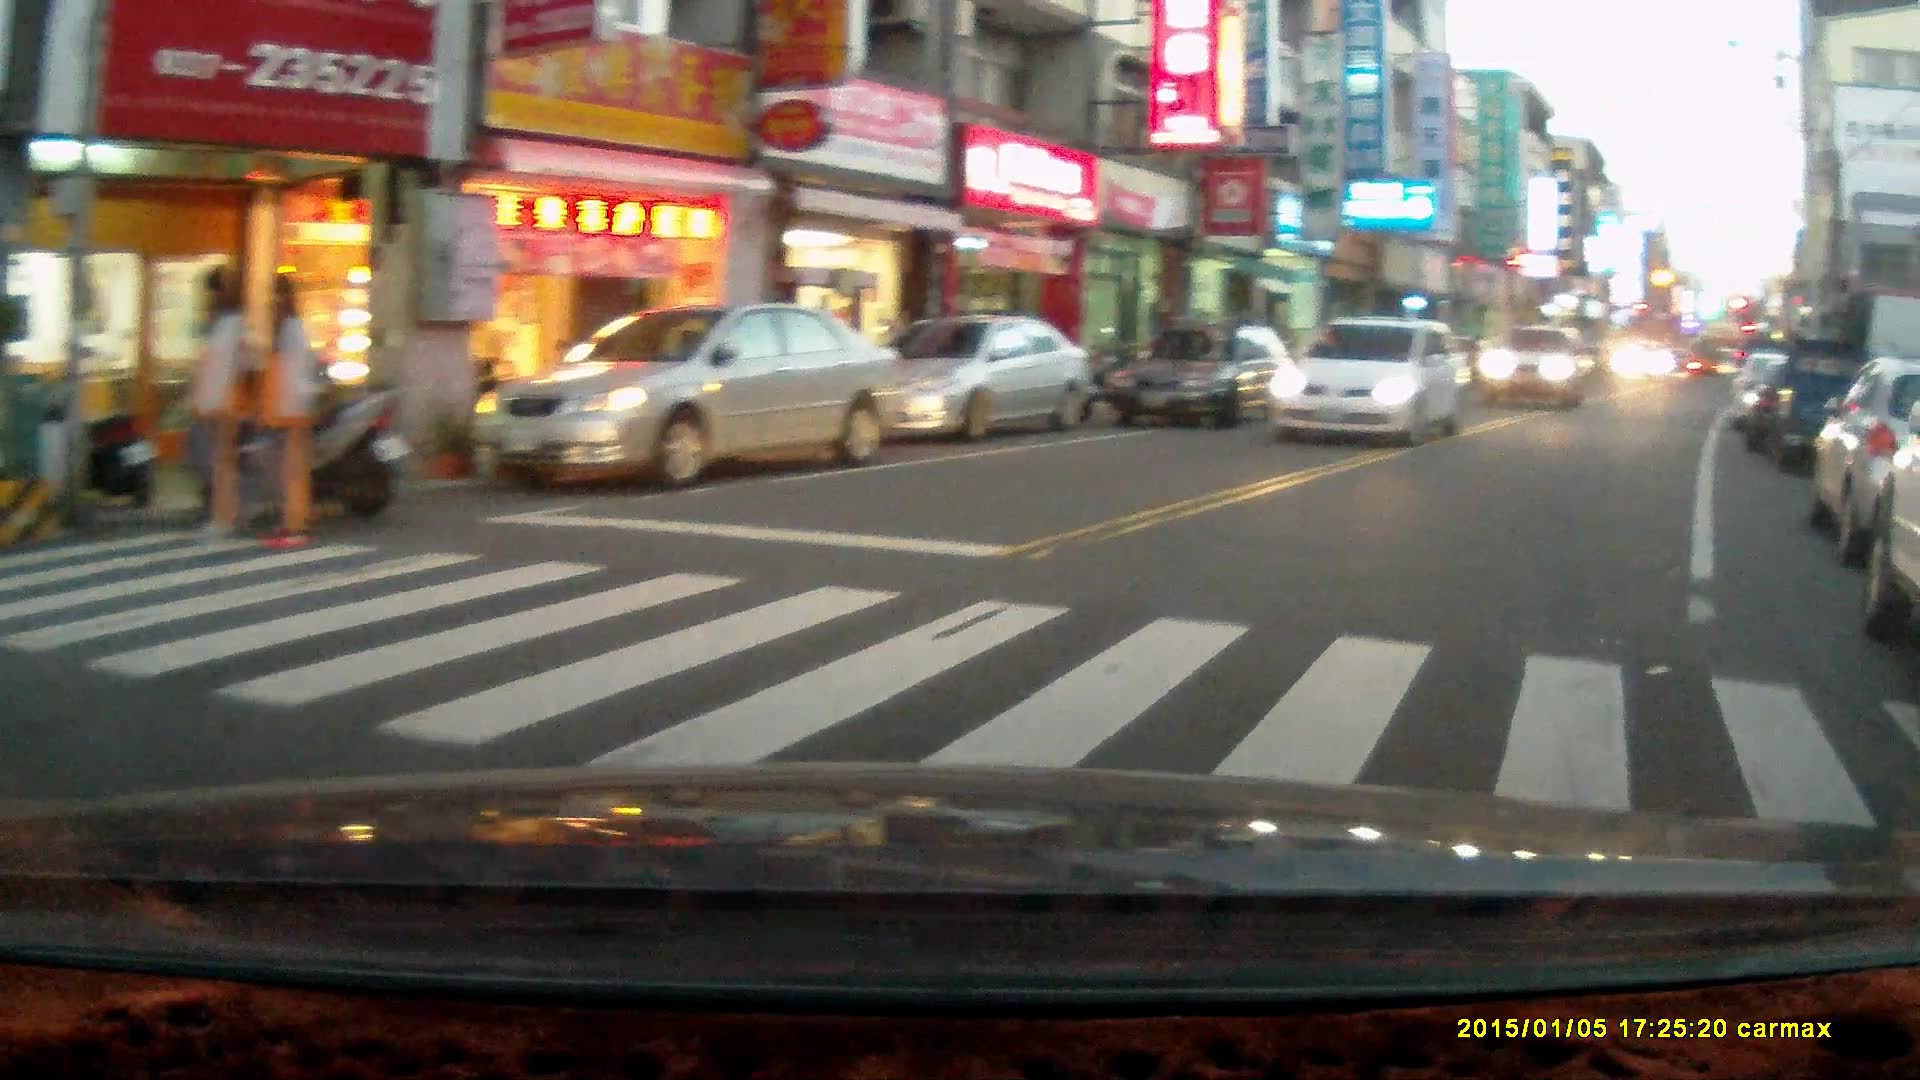pedestrian: (220, 275, 347, 555), (179, 267, 260, 547)
vehicle: (471, 299, 905, 489), (837, 315, 1092, 439), (1268, 313, 1476, 451), (1804, 358, 1920, 570), (1746, 335, 1905, 480), (1112, 325, 1304, 434), (1467, 324, 1599, 412), (1611, 338, 1672, 390)
